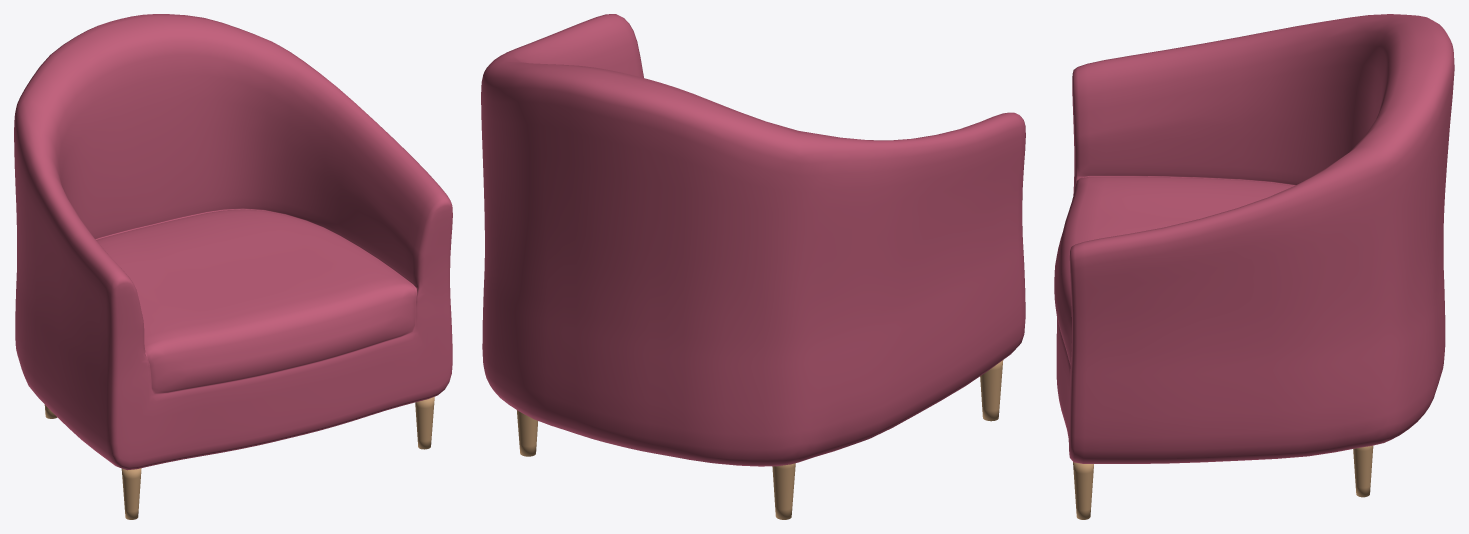
File: sofa1#18.fbx
3 views of the same model, side by side, from view 1: azimuth 30°, elevation 25°; view 2: azimuth 150°, elevation 25°; view 3: azimuth 270°, elevation 25° (orthographic). The views are drawn at different scales.
Parts seen in each view (by area): view 1: Loft02, Object01; view 2: Loft02, Object01; view 3: Loft02, Object01.
Boxes of the visible parts, box(x1,y1,x2,y2) form: Loft02: box(14, 14, 452, 470); Object01: box(44, 397, 434, 519); Loft02: box(481, 14, 1025, 466); Object01: box(517, 360, 1003, 519); Loft02: box(1054, 14, 1454, 463); Object01: box(1073, 445, 1373, 519).
Bounding box in the file's own units: 1.99 × 1.92 × 1.78.
